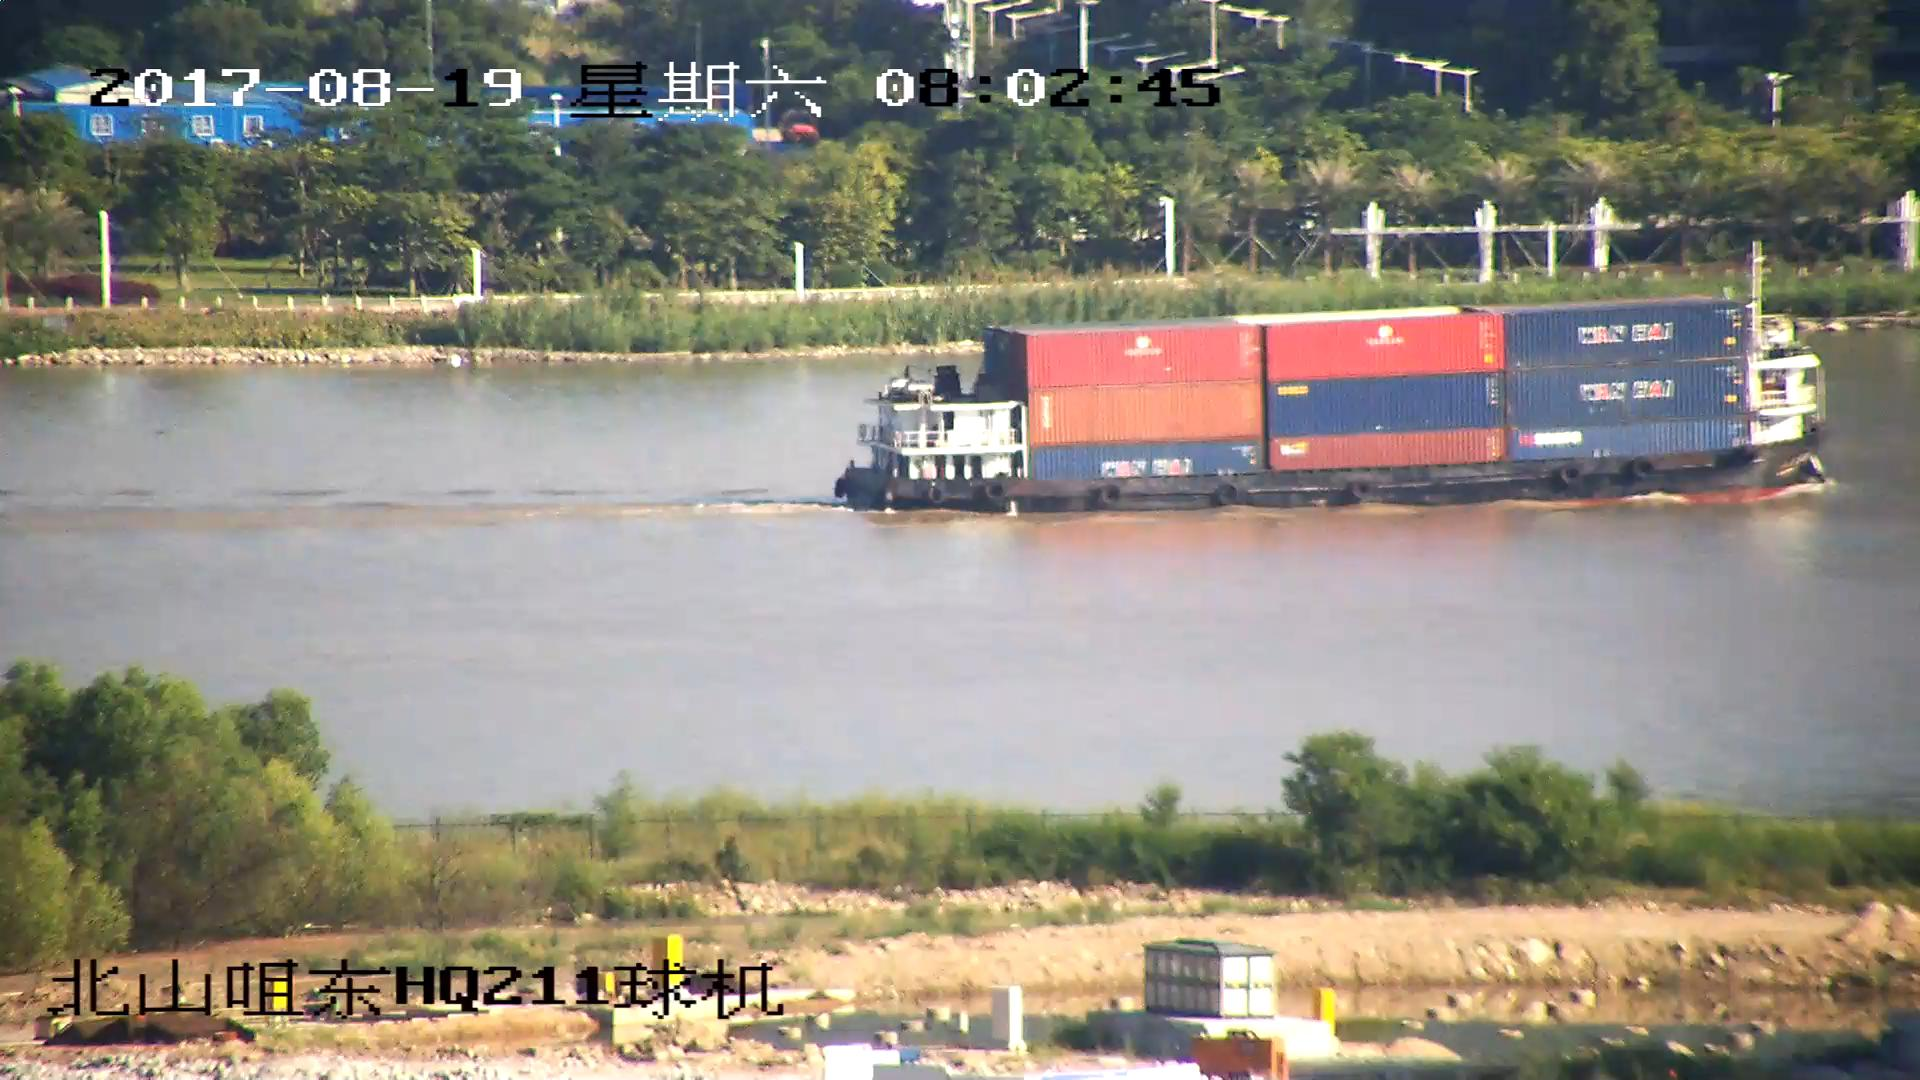container ship: (839, 254, 1834, 523)
